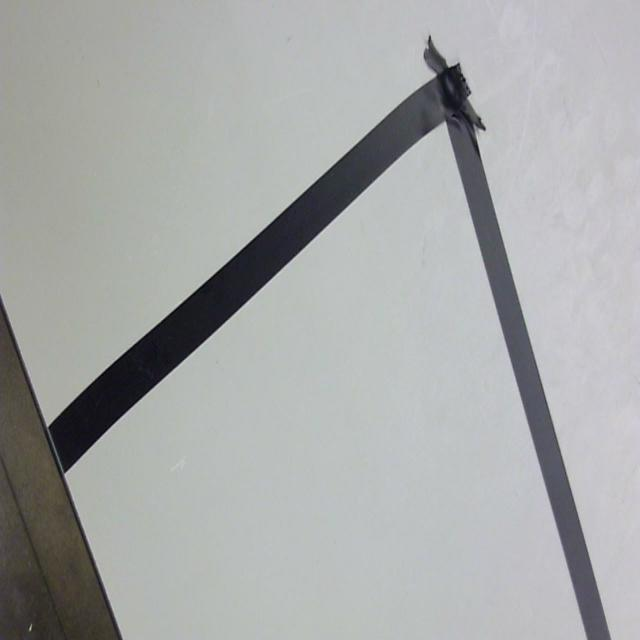tape: (23, 20, 620, 640)
